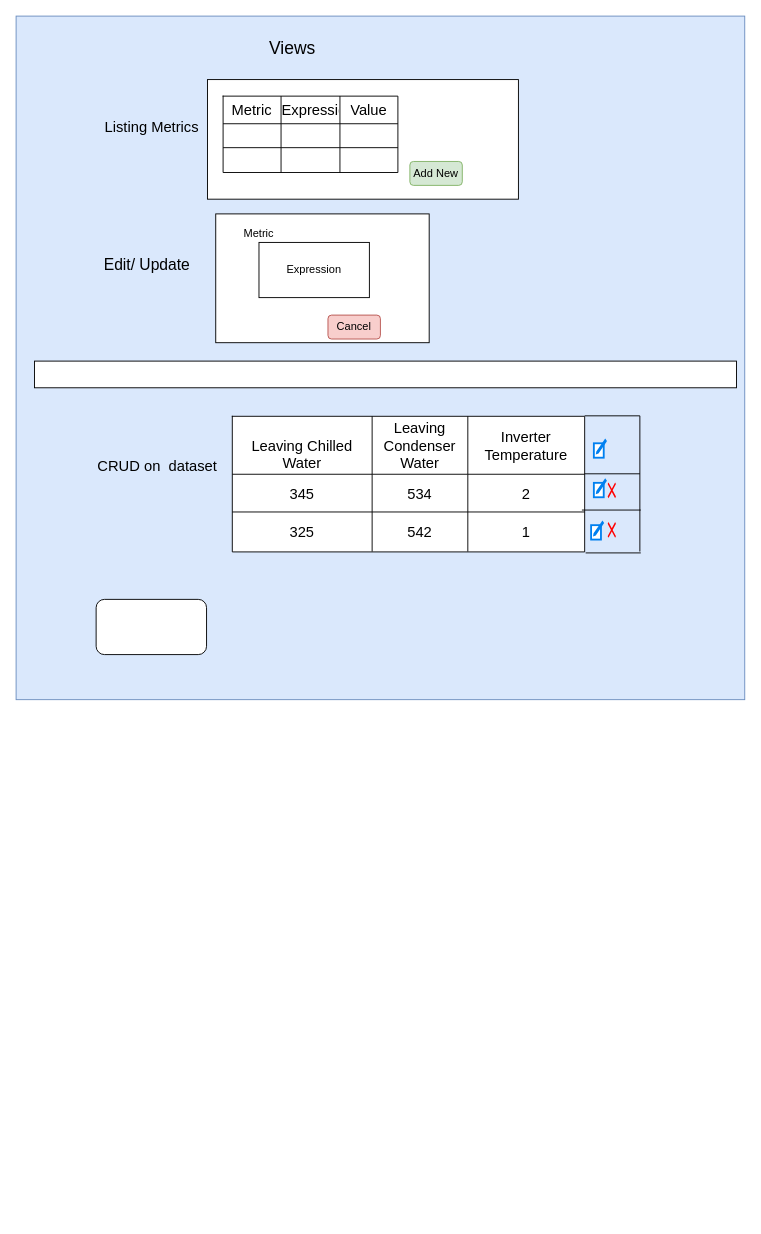
Image size: 761x1234. Some labels were removed from this diagram. Each missing label, with the centre of its shape:
"Login/ Sign up view" belongs at [151,626].
"Scope for future" belongs at [385,374].
